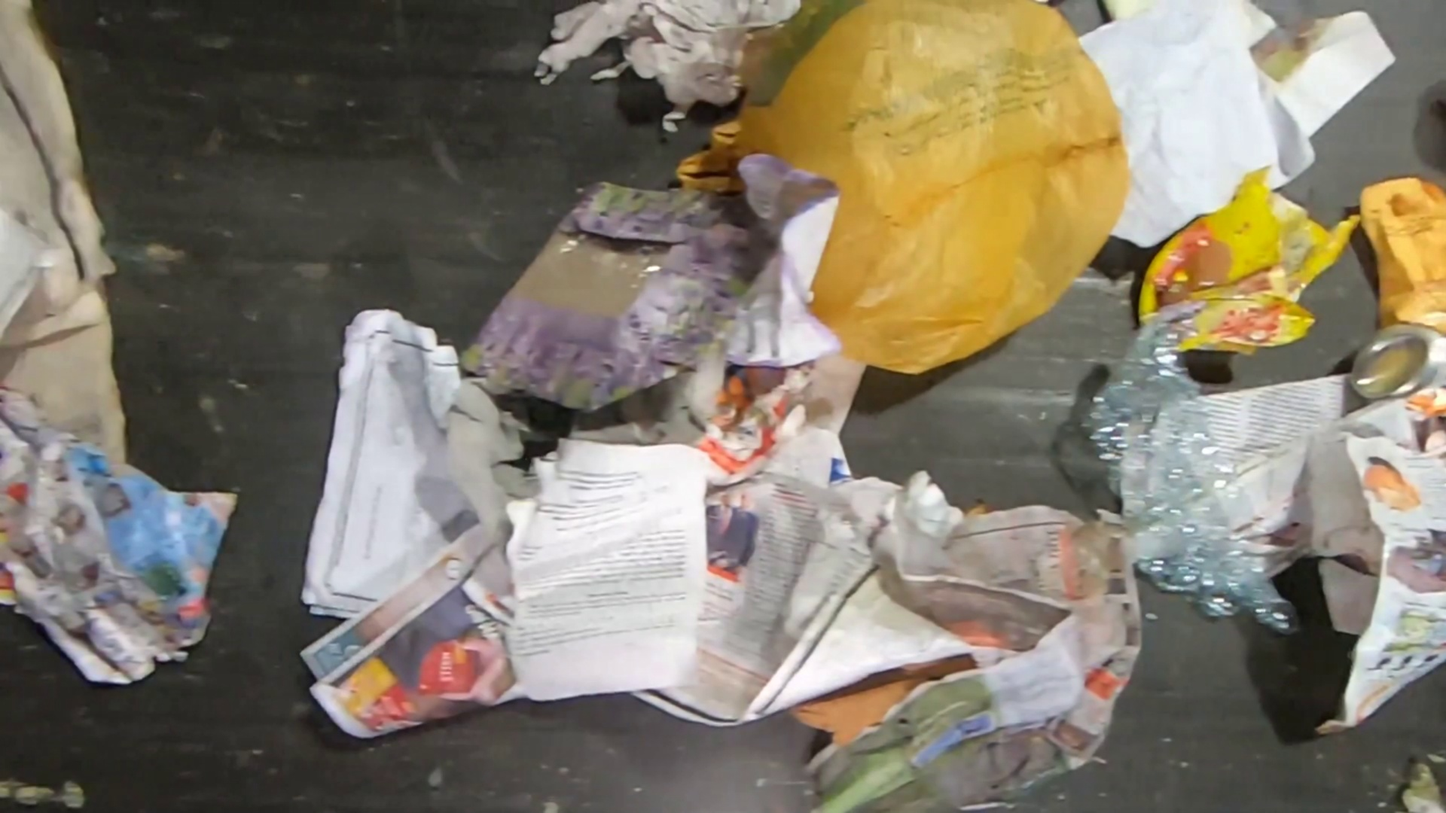cardboard: (460, 181, 767, 416), (792, 654, 978, 750)
metal: (1348, 322, 1446, 424)
plastic: (674, 2, 1134, 380), (1080, 302, 1296, 635), (1140, 165, 1364, 353)
